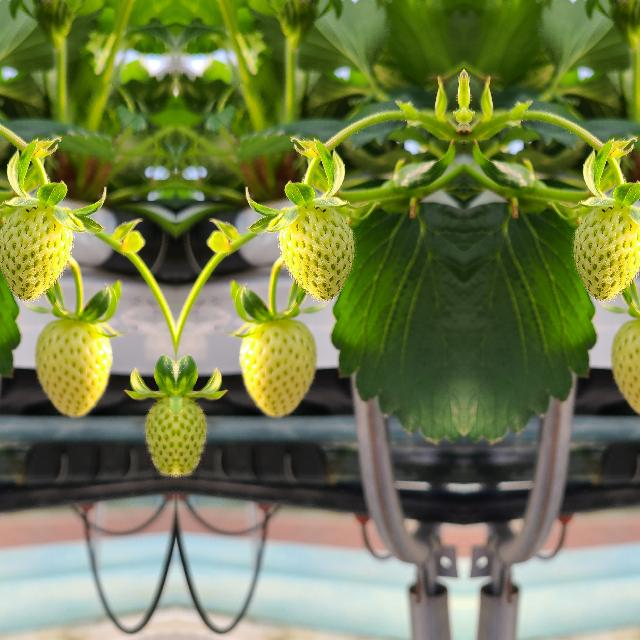Health_25: (277, 208, 353, 300), (0, 207, 73, 300), (573, 207, 640, 300)
